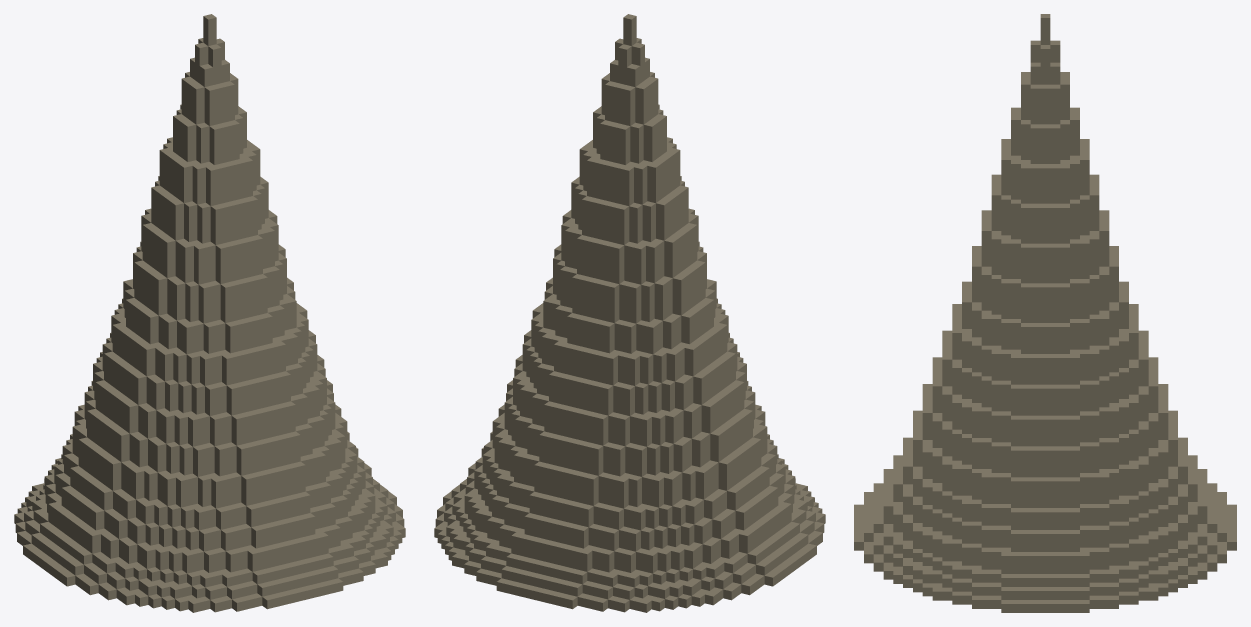
Rendered from Stalagmite.obj.
3 renders of one model, left to right at view 1: azimuth 30°, elevation 25°; view 2: azimuth 150°, elevation 25°; view 3: azimuth 270°, elevation 25°, orthographic.
Bounding box in the file's own units: 39 × 58 × 39.
Materials: 1 (1 with a texture image).
